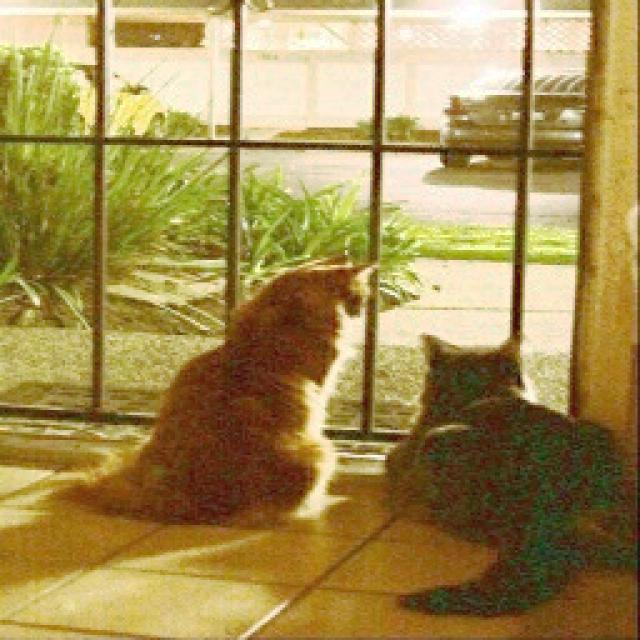cat: (70, 214, 380, 574), (375, 311, 640, 618)
